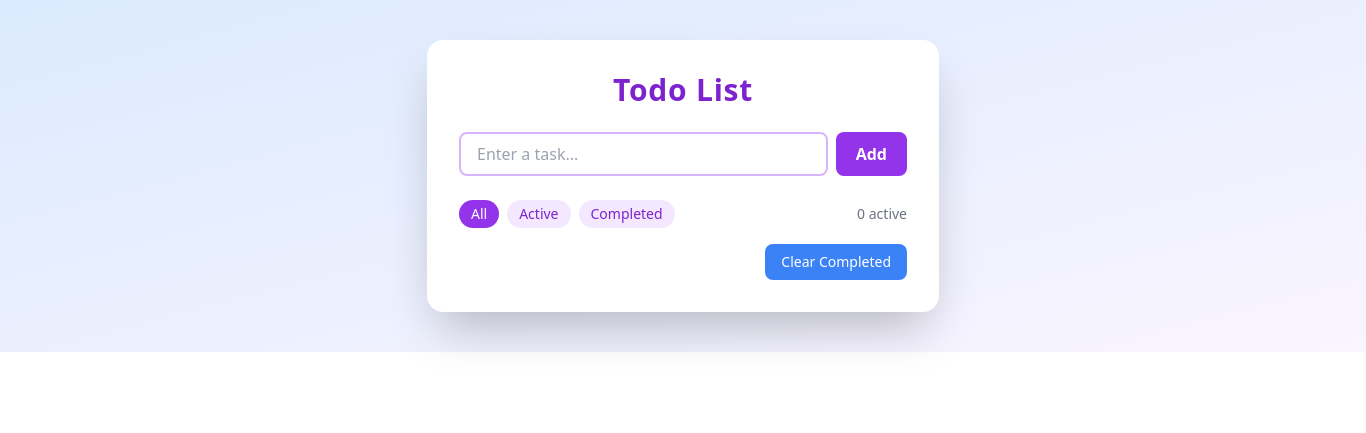
TodoList Component › adds a new todo
Type "Learn Vitest" into the field with placeholder "Enter a task...". click: (643, 154)
box: [459,132,828,176]
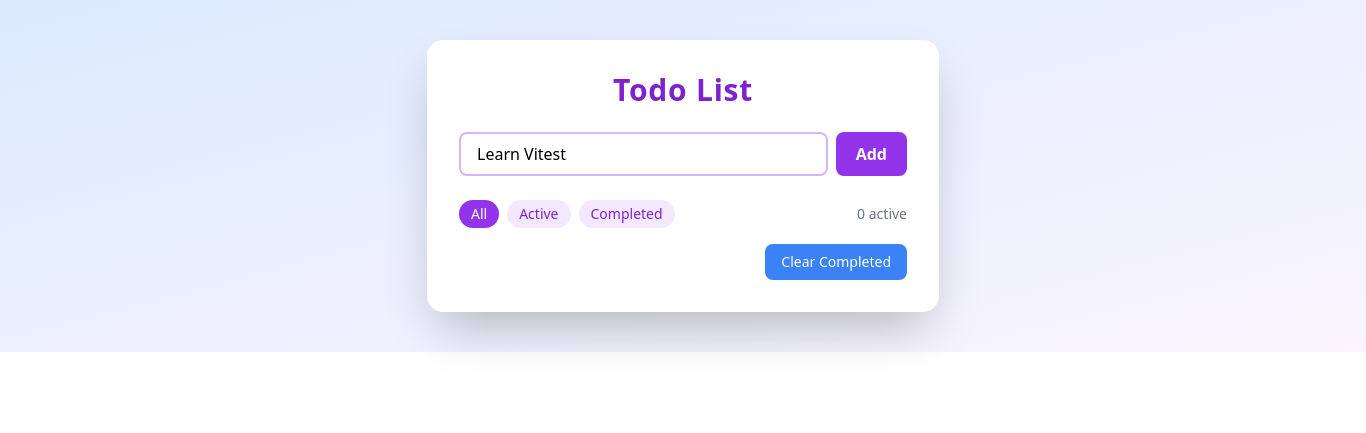
Click the button "Add". click: click(871, 154)
box: [836,132,907,176]
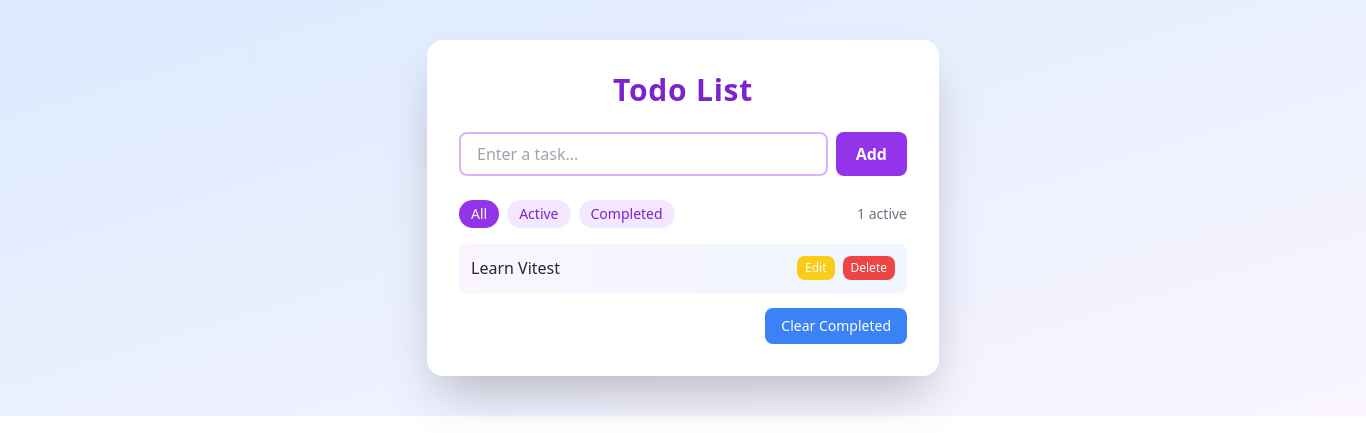
expect the text "Learn Vitest" is shown: met, box [471,257,560,279]
